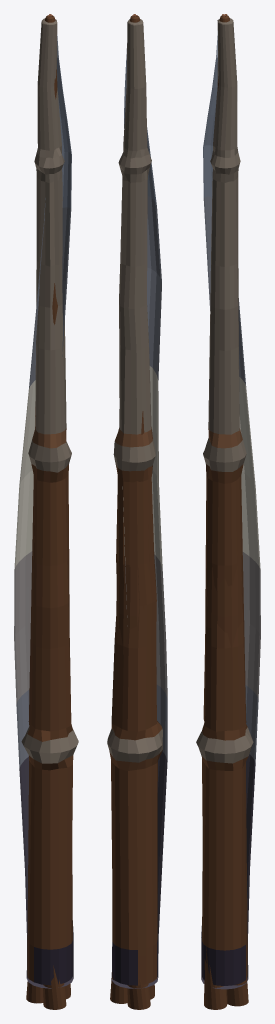
File: wands.glb
The picture shows the model from 3 angles, left to right: view 1: azimuth 90°, elevation 25°; view 2: azimuth 210°, elevation 25°; view 3: azimuth 270°, elevation 25°; orthographic projection.
Visible parts, largest first — view 1: Wand.001; view 2: Wand.001; view 3: Wand.001.
Boxes of the visible parts, x1,y1,x2,y2 form: Wand.001: (14,14,78,1009); Wand.001: (107,14,167,1009); Wand.001: (196,14,260,1009).
Size of the model in its own units: 0.0242 by 0.45 by 0.0268.
